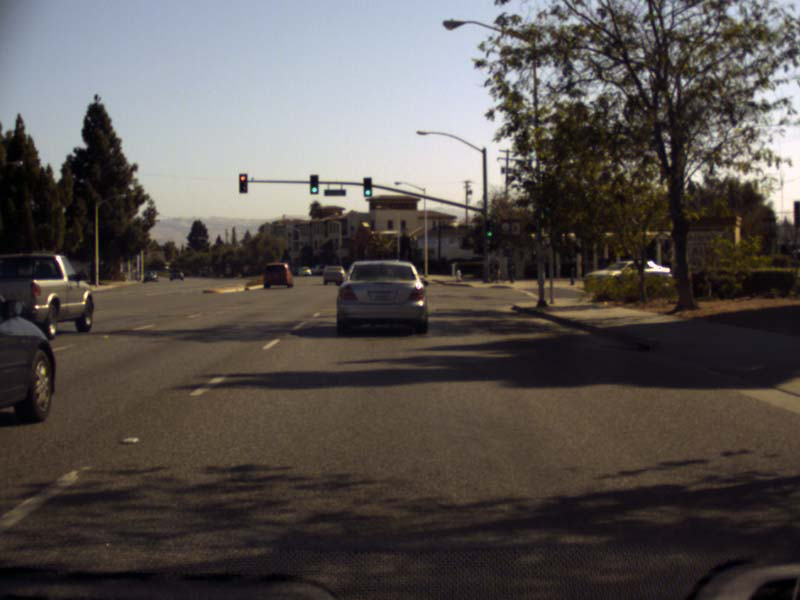Green: (362, 178, 372, 197), (485, 219, 493, 238), (310, 175, 317, 194)
Red: (238, 173, 247, 192)
